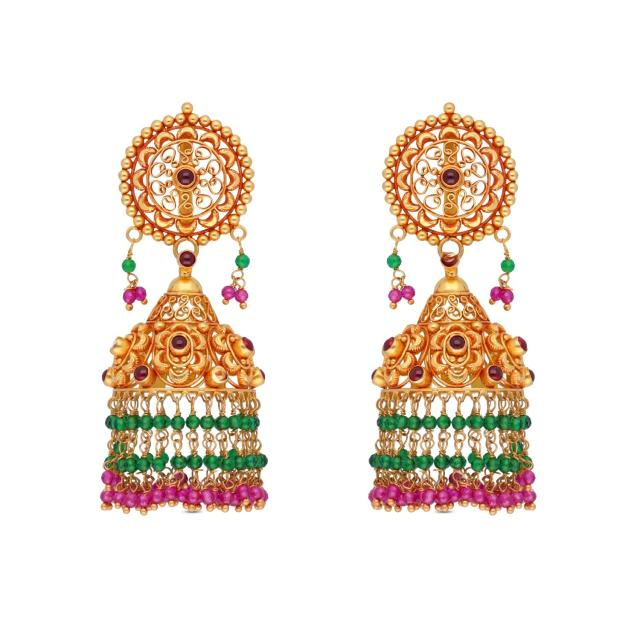missing gem: (442, 248, 458, 268), (213, 366, 228, 381), (109, 337, 118, 352)
